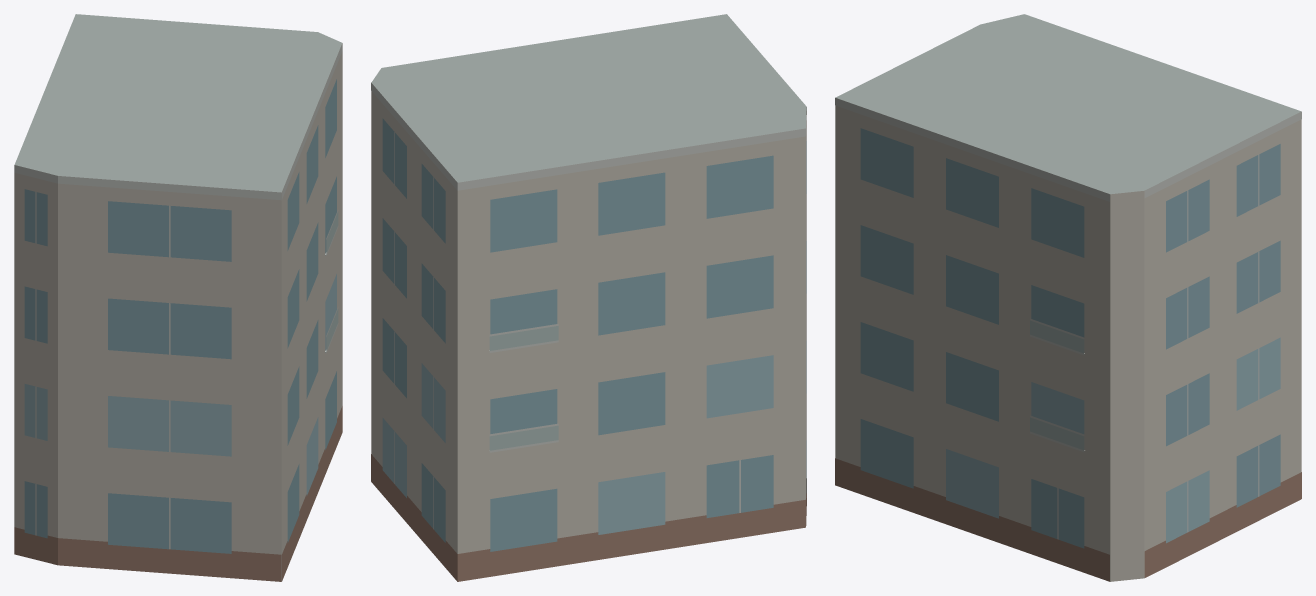
The model's file is survey-upis-32620148.glb.
3 renders of one model, left to right at view 1: azimuth 30°, elevation 25°; view 2: azimuth 150°, elevation 25°; view 3: azimuth 270°, elevation 25°, orthographic. The views are drawn at different scales.
Parts seen in each view (by area): view 1: survey-upis-32620148.tmp; view 2: survey-upis-32620148.tmp; view 3: survey-upis-32620148.tmp.
Part boxes in pixels (<box>): survey-upis-32620148.tmp: <box>14,14,342,581</box>; survey-upis-32620148.tmp: <box>371,14,806,581</box>; survey-upis-32620148.tmp: <box>835,14,1301,581</box>.
Bounding box in the file's own units: 12.18 × 12.2 × 13.32.
